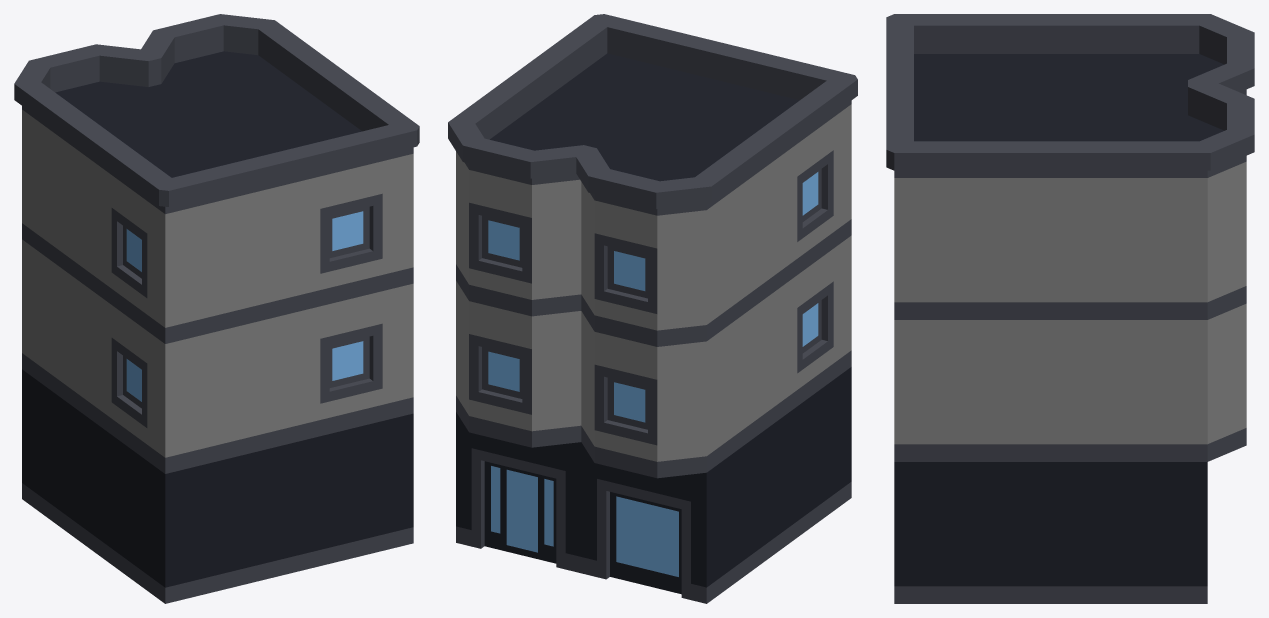
File: blender_script.obj
3 views of the same model, side by side, from view 1: azimuth 30°, elevation 25°; view 2: azimuth 150°, elevation 25°; view 3: azimuth 270°, elevation 25° (orthographic). The views are drawn at different scales.
Visible parts, largest first — view 1: Building; view 2: Building; view 3: Building.
Part boxes in pixels (box(x1,y1,x2,y2)): Building: box(14, 14, 419, 603); Building: box(448, 14, 857, 603); Building: box(886, 14, 1254, 603).
Bounding box in the file's own units: 0.84 × 1.28 × 0.94.
